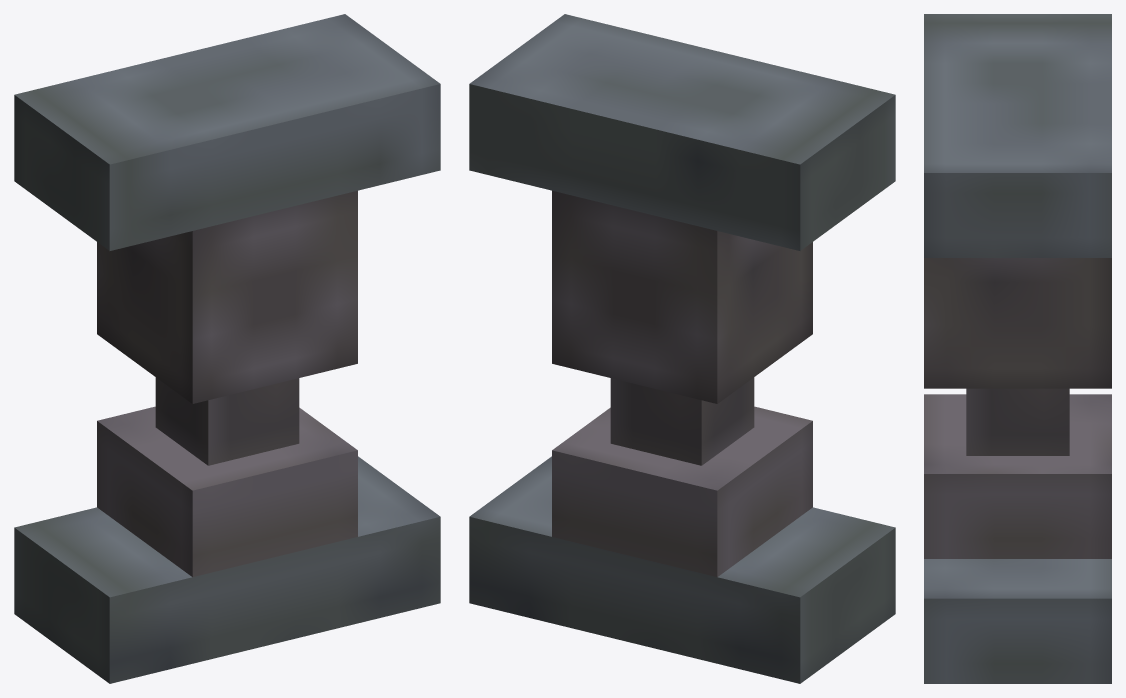
Rendered from railing_type_01_purple.fbx.
3 renders of one model, left to right at view 1: azimuth 30°, elevation 25°; view 2: azimuth 150°, elevation 25°; view 3: azimuth 270°, elevation 25°, orthographic.
Parts seen in each view (by area): view 1: railing_type_01_purple; view 2: railing_type_01_purple; view 3: railing_type_01_purple.
Boxes of the visible parts, box(x1,y1,x2,y2) form: railing_type_01_purple: box(14, 14, 440, 683); railing_type_01_purple: box(469, 14, 895, 683); railing_type_01_purple: box(924, 14, 1111, 683).
Bounding box in the file's own units: 8 × 12 × 4.
